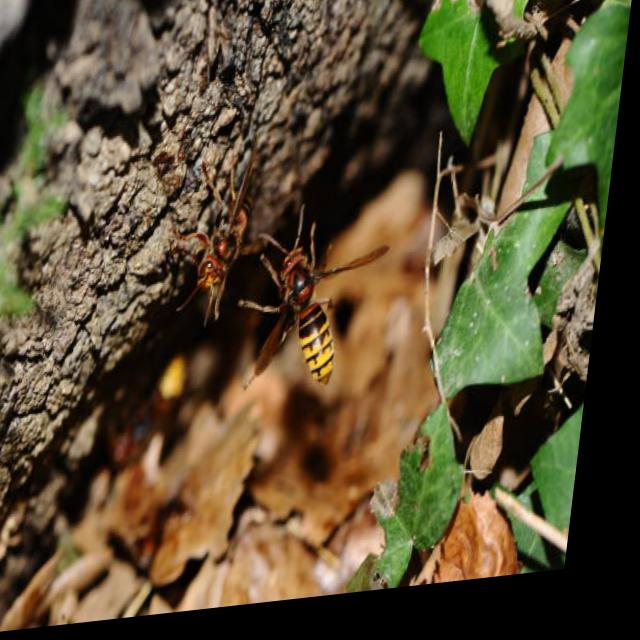Vespa Crabro: (241, 203, 392, 399), (163, 134, 286, 341)
